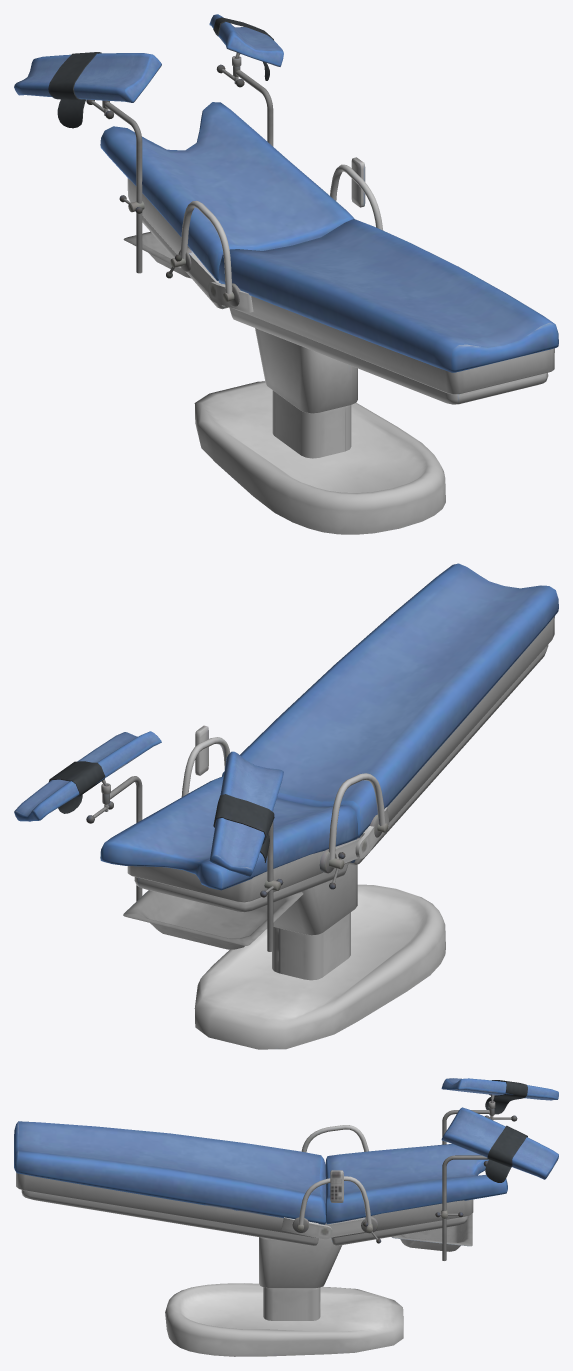
The model's file is armchair_2.fbx.
The picture shows the model from 3 angles, top to bottom: view 1: azimuth 30°, elevation 25°; view 2: azimuth 150°, elevation 25°; view 3: azimuth 270°, elevation 25°; orthographic projection. The views are drawn at different scales.
Visible parts, largest first — view 1: armchair; view 2: armchair; view 3: armchair.
Part boxes in pixels (left/top/right/bottom): armchair: left=14, top=14, right=558, bottom=534; armchair: left=14, top=563, right=558, bottom=1049; armchair: left=14, top=1078, right=558, bottom=1356.
Bounding box in the file's own units: 30.94 × 41.06 × 85.82.
